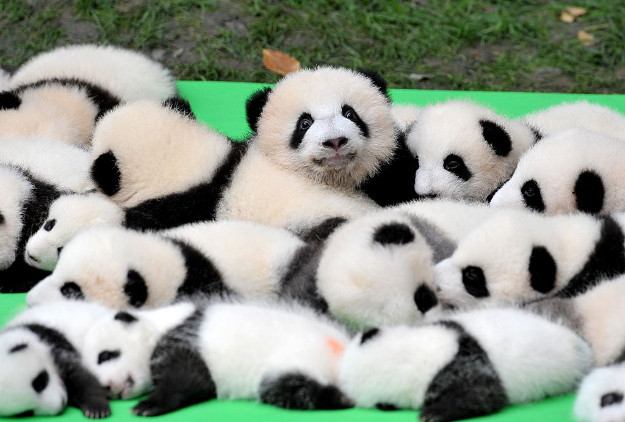panda: (334, 297, 566, 422), (86, 298, 298, 422), (234, 50, 408, 200)
